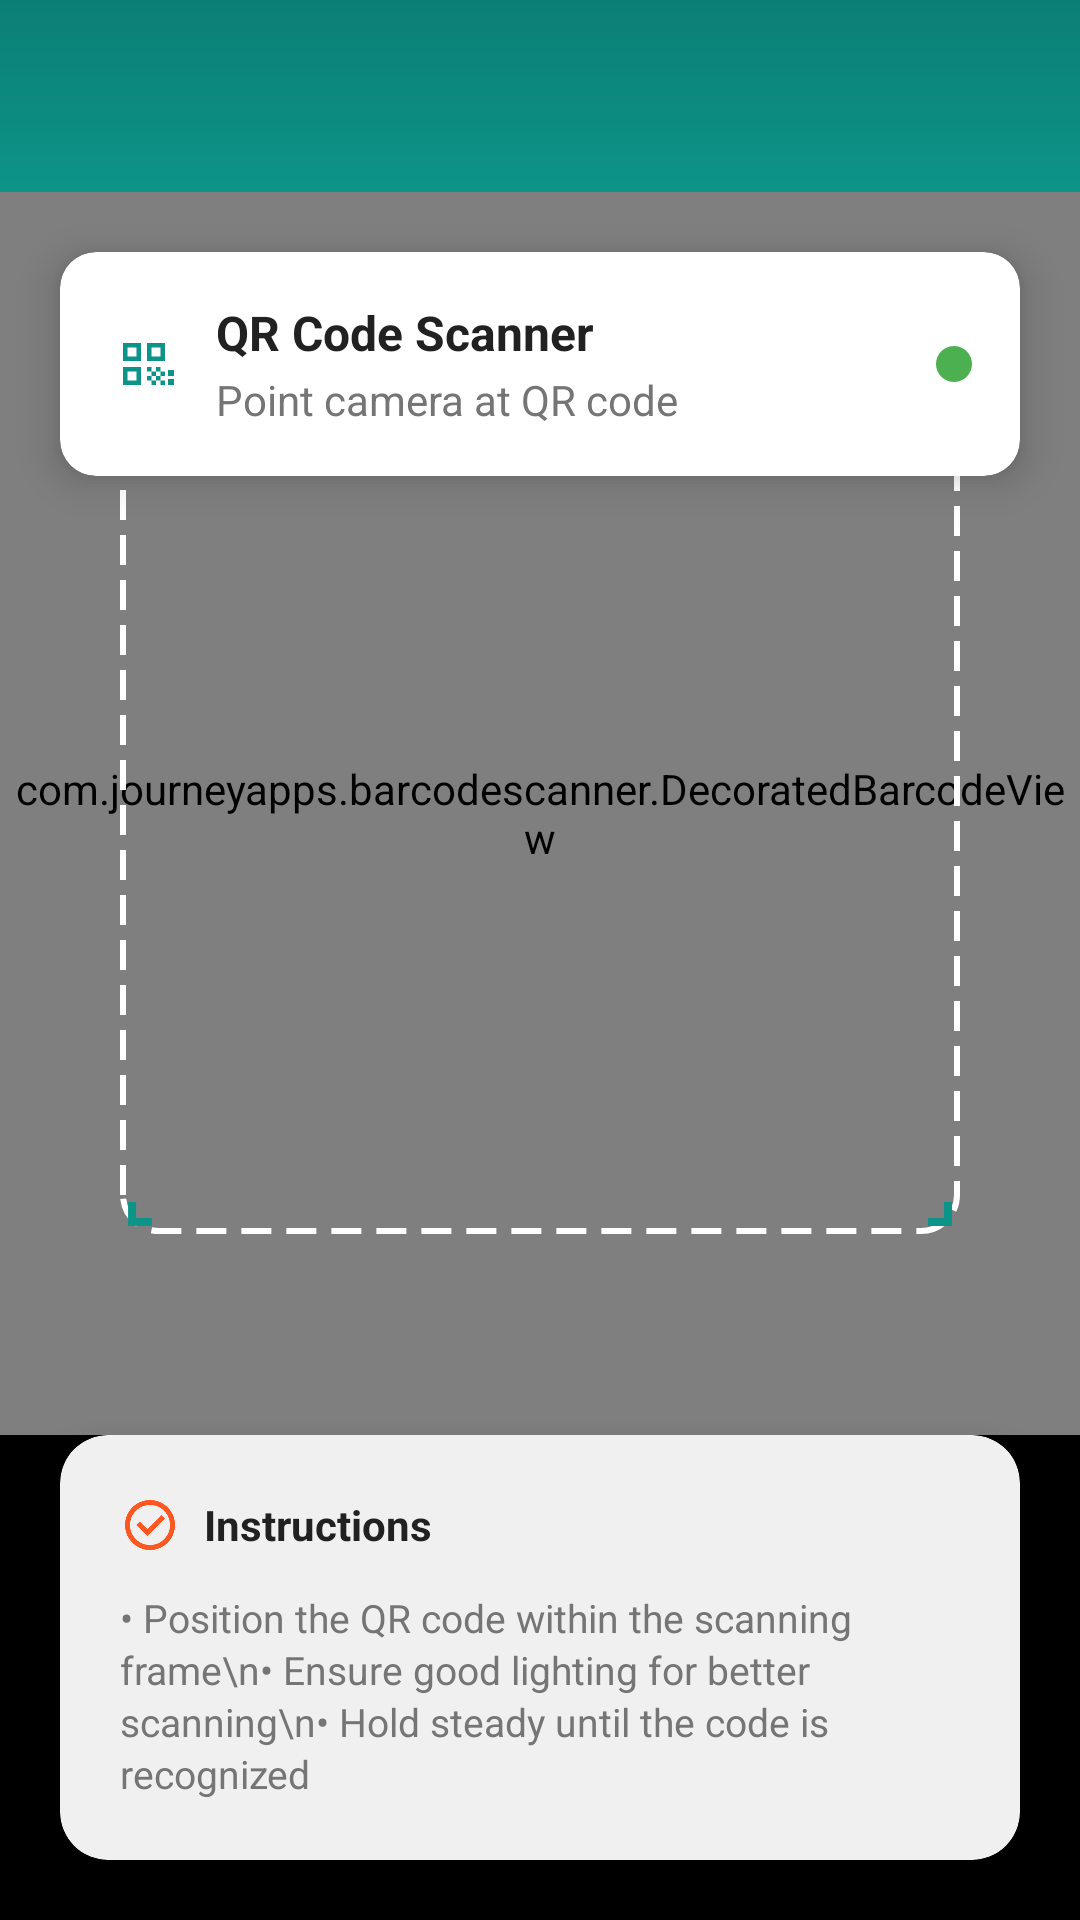

Screen size 1080px×1920px. Icon name, then its box in pixels as {"x1": x1, "y1": y1, "x2": x2, "y2": y2}:
scan corner bottom left: {"x1": 120, "y1": 1165, "x2": 182, "y2": 1234}
scan corner bottom right: {"x1": 871, "y1": 1138, "x2": 960, "y2": 1234}
